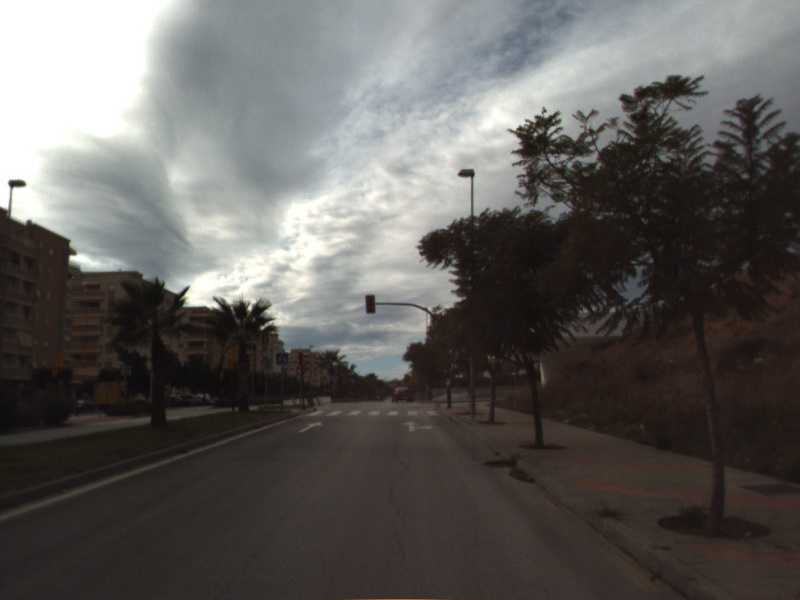STRAIGHT: (296, 419, 325, 434)
STRAIGHT_RIGHT: (400, 419, 436, 433)
